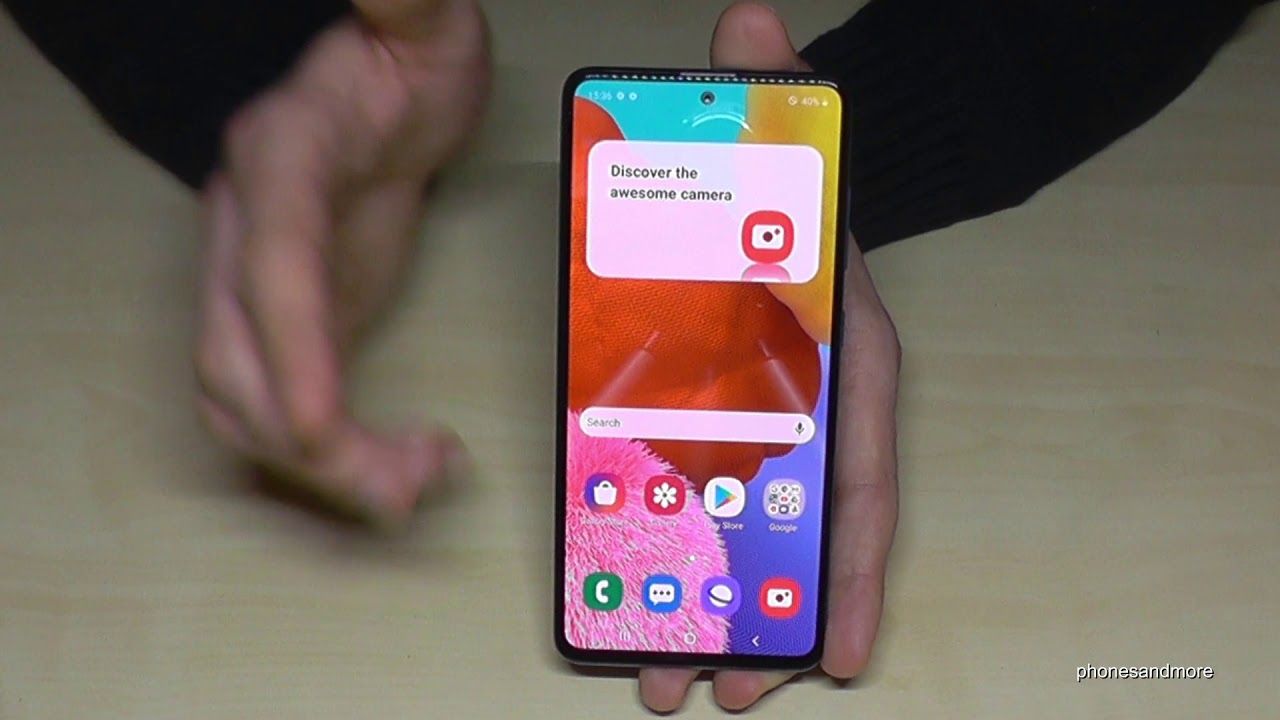Cell Phone: (560, 67, 828, 659)
